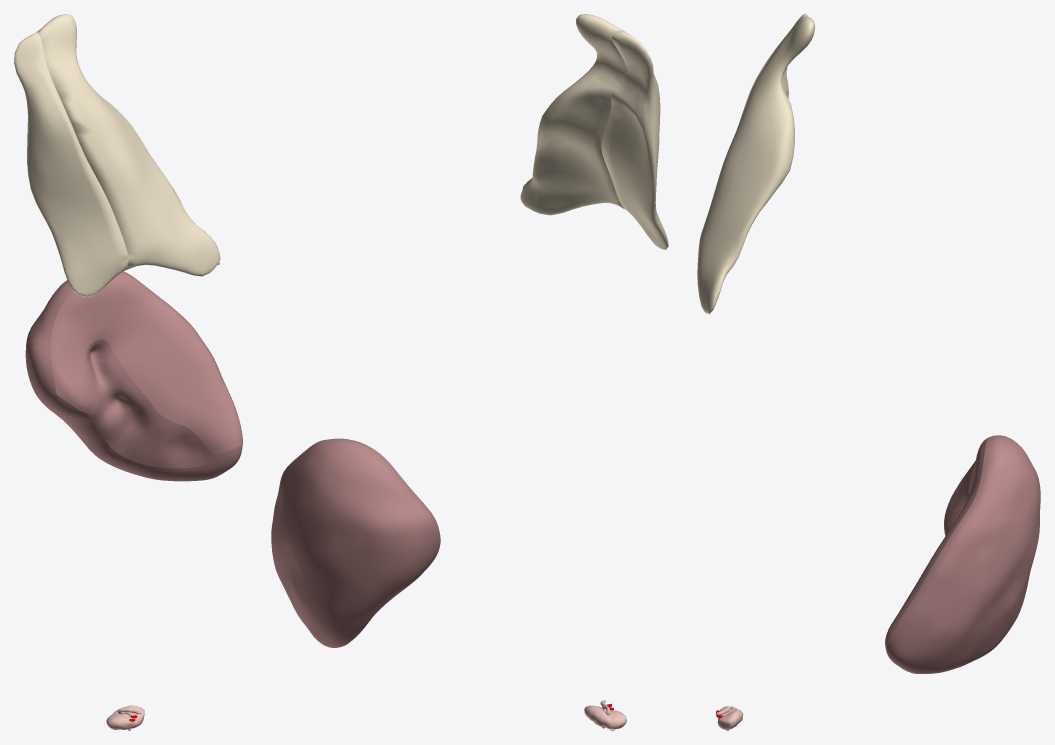
The model's file is female-lymphatic.glb.
3 renders of one model, left to right at view 1: azimuth 30°, elevation 25°; view 2: azimuth 150°, elevation 25°; view 3: azimuth 270°, elevation 25°, orthographic. The views are drawn at different scales.
Parts seen in each view (by area): view 1: VH_F_gastric_surface_of_spleen, VH_F_thymus_lobe_L, VH_F_thymus_lobe_R, VH_F_hilum_of_spleen, VH_F_diaphragmatic_surface_of_spleen, VH_F_renal_surface_of_spleen, VH_F_colic_surface_of_spleen, Yao_capsule_of_lymph_node; view 2: VH_F_diaphragmatic_surface_of_spleen, VH_F_thymus_lobe_L, VH_F_thymus_lobe_R, Yao_capsule_of_lymph_node; view 3: VH_F_diaphragmatic_surface_of_spleen, VH_F_thymus_lobe_L, VH_F_gastric_surface_of_spleen.
Part boxes in pixels (bbox=[...]): VH_F_gastric_surface_of_spleen: bbox=[51, 278, 242, 454]; VH_F_thymus_lobe_L: bbox=[37, 14, 220, 276]; VH_F_thymus_lobe_R: bbox=[14, 32, 128, 296]; VH_F_hilum_of_spleen: bbox=[85, 339, 211, 468]; VH_F_diaphragmatic_surface_of_spleen: bbox=[25, 271, 242, 481]; VH_F_renal_surface_of_spleen: bbox=[46, 395, 210, 481]; VH_F_colic_surface_of_spleen: bbox=[204, 445, 242, 478]; Yao_capsule_of_lymph_node: bbox=[106, 705, 144, 729]; VH_F_diaphragmatic_surface_of_spleen: bbox=[271, 438, 440, 647]; VH_F_thymus_lobe_L: bbox=[520, 14, 626, 215]; VH_F_thymus_lobe_R: bbox=[601, 30, 668, 249]; Yao_capsule_of_lymph_node: bbox=[584, 705, 626, 729]; VH_F_diaphragmatic_surface_of_spleen: bbox=[887, 435, 1040, 673]; VH_F_thymus_lobe_L: bbox=[697, 16, 815, 314]; VH_F_gastric_surface_of_spleen: bbox=[885, 438, 987, 642].
Bounding box in the file's own units: 0.147 × 0.3508 × 0.1565.
